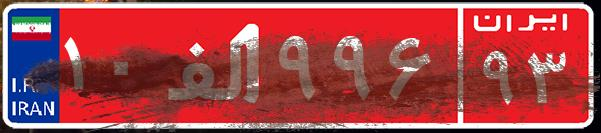0: (110, 28, 158, 105)
1: (57, 26, 110, 107)
3: (525, 38, 570, 115)
6: (385, 28, 445, 110)
9: (273, 28, 330, 110), (330, 28, 385, 110), (475, 38, 525, 113)
الف: (158, 15, 273, 115)
